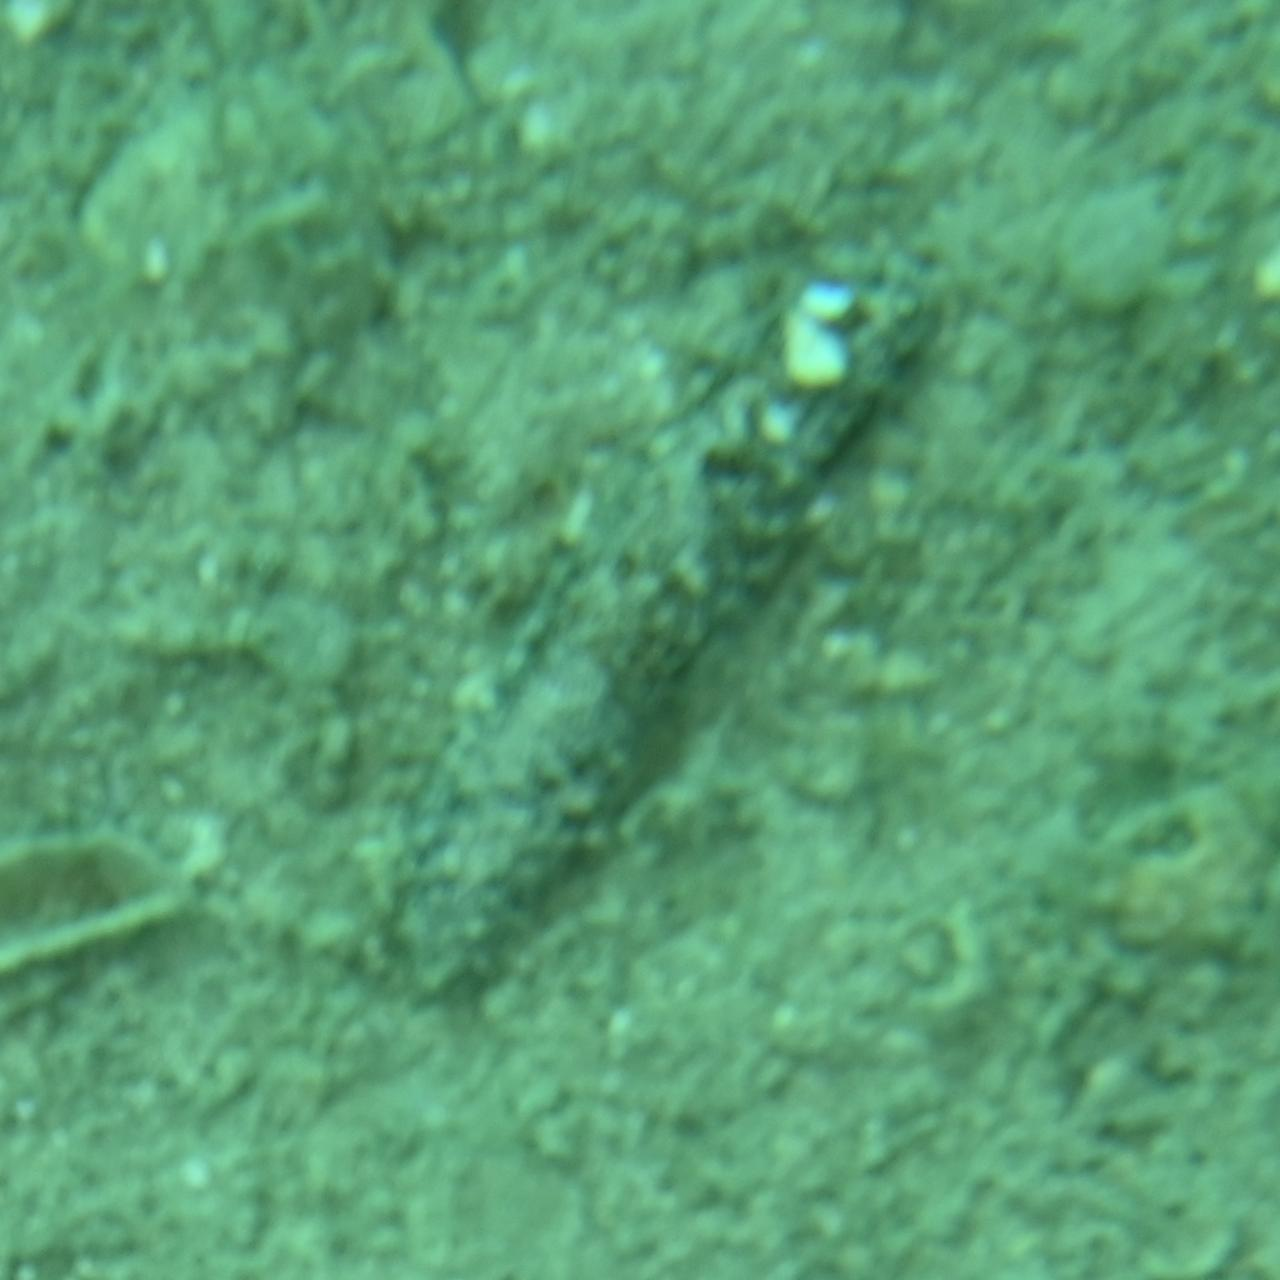Holothuria tubulosa: (348, 258, 932, 1022)
